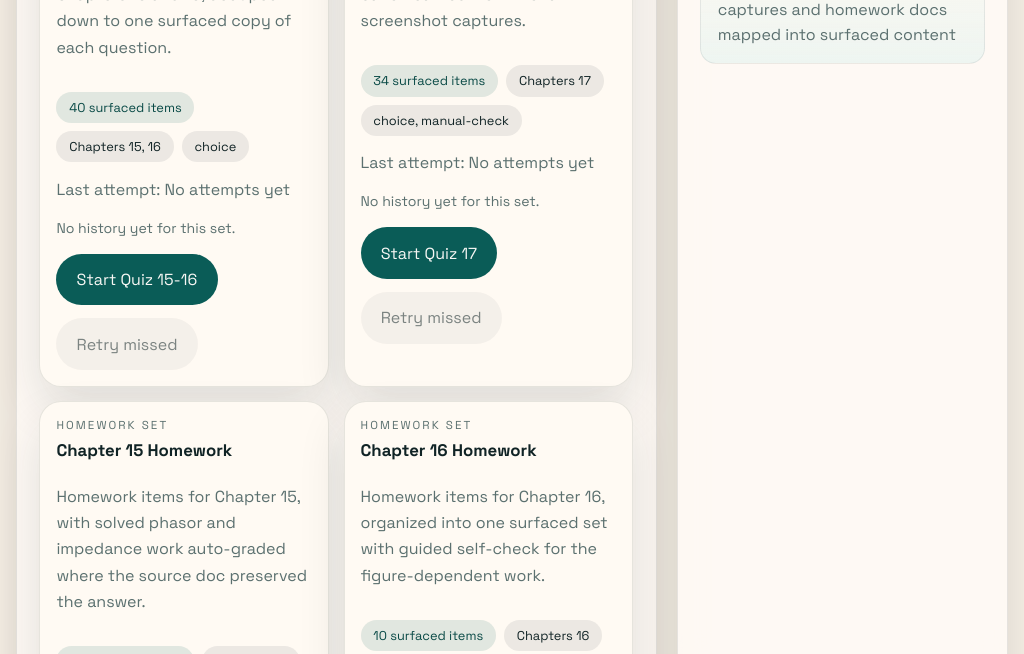
Test: App › shows the five canonical study entry points and starts the combined quiz
(page scrolled)
expect the heading "Chapter 15 Homework" is shown: met, box [56,438,232,460]
expect the heading "Chapter 16 Homework" is shown: met, box [360,438,537,460]
Click the button "Start Quiz 15-16" at (137, 280), box [56,254,218,305]
(page scrolled)
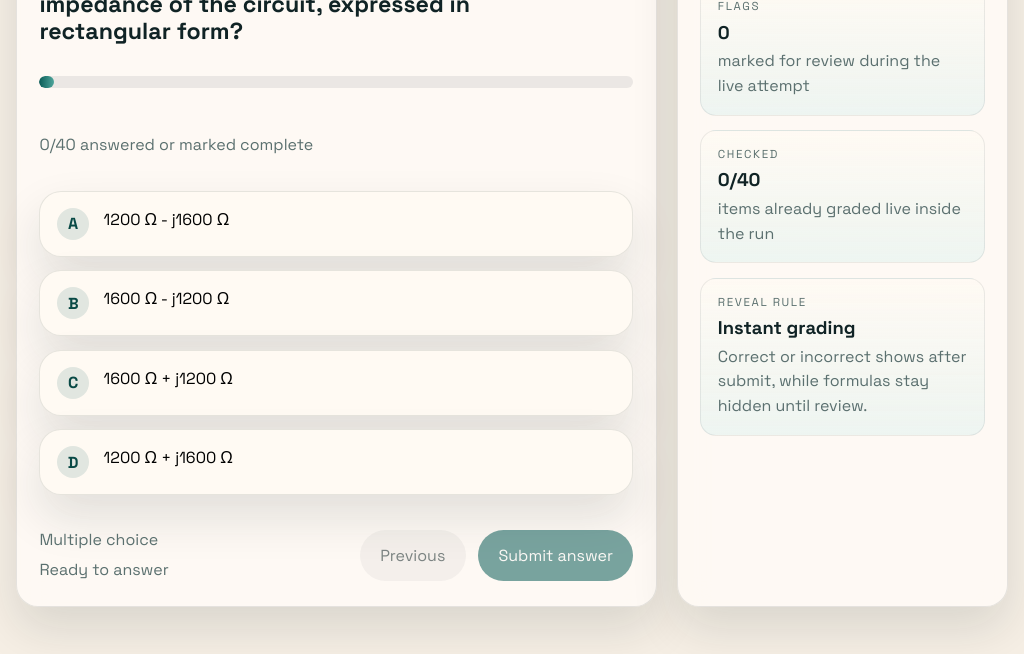
Click the button "A 1200 Ω - j1600 Ω" at (73, 224), box [39,191,633,257]
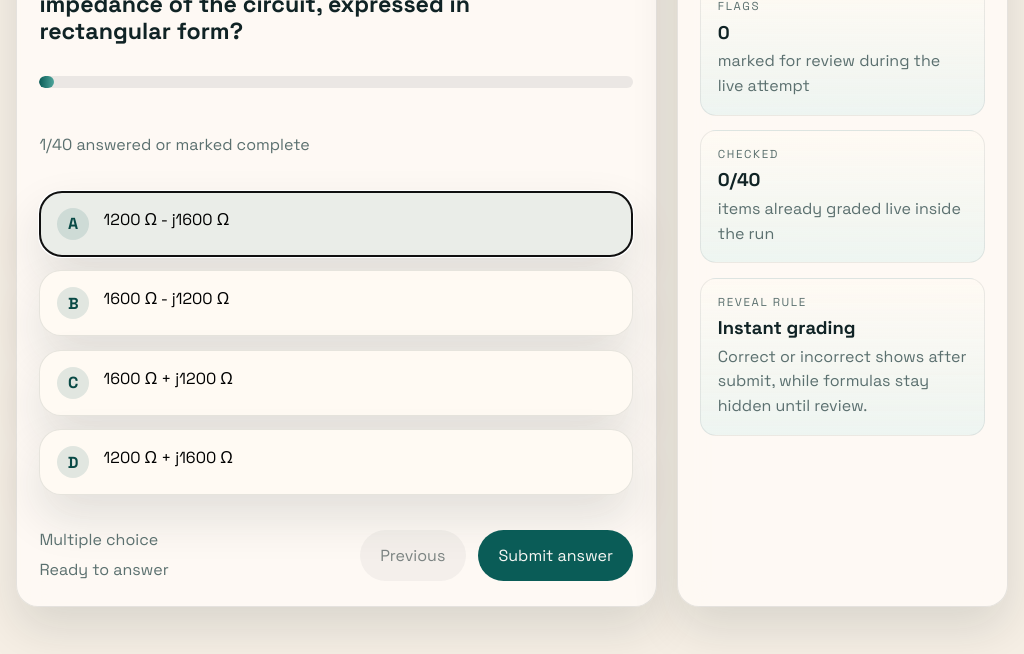
Click the button "Submit answer" at (556, 556), box [478,530,633,581]
(page scrolled)
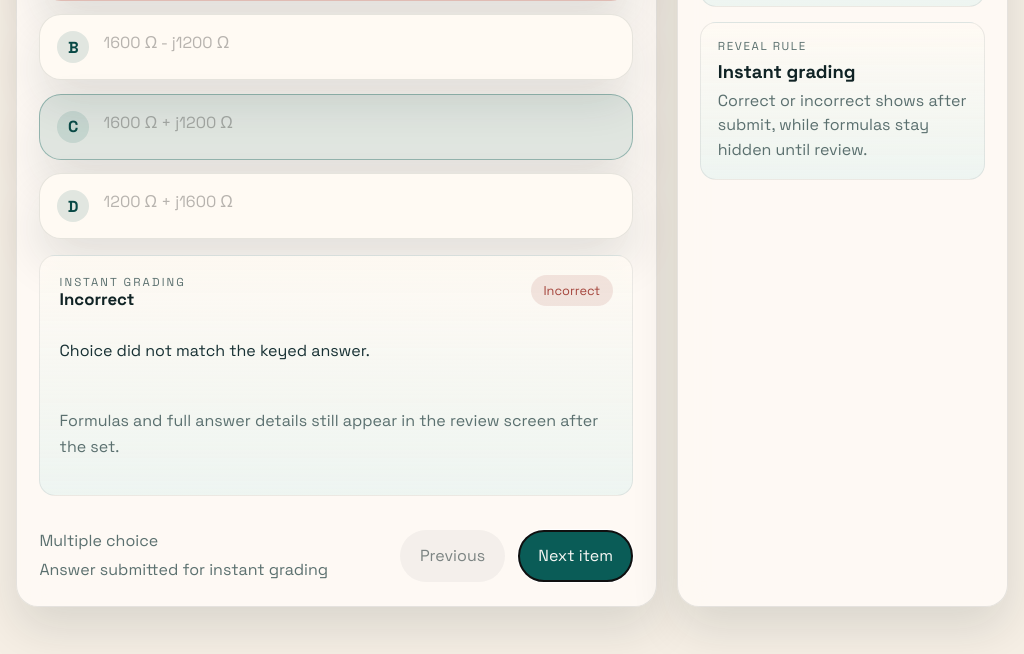
expect the text "Choice did not match the keyed answer." is shown: met, box [60,340,370,361]
Click the button "Next item" at (576, 556), box [518,530,633,582]
(page scrolled)
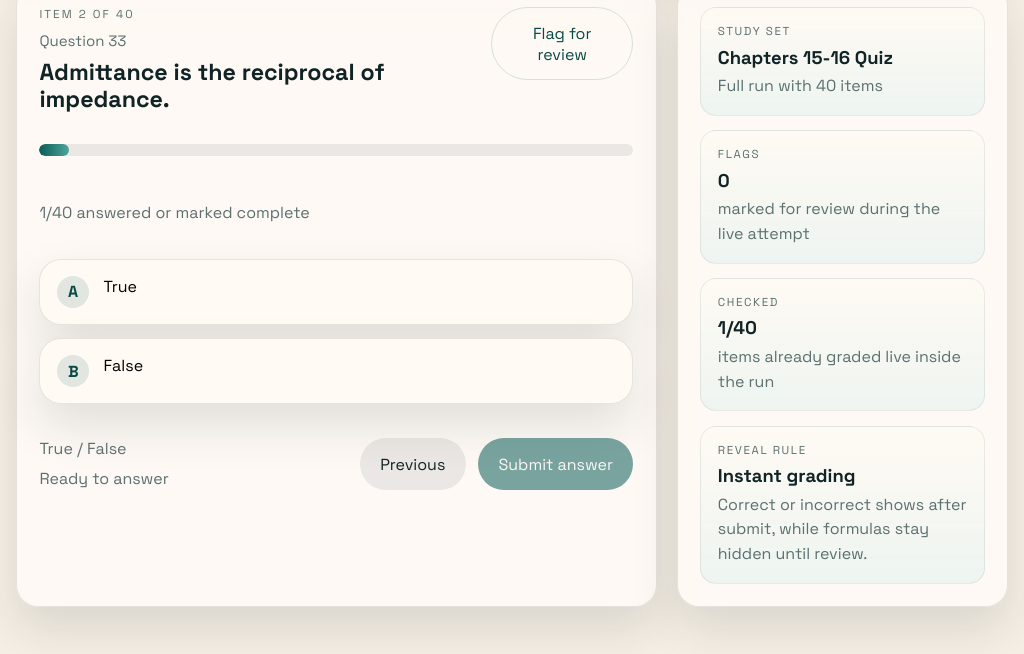
expect the text "Item 2 of 40" is shown: met, box [39,7,135,21]
